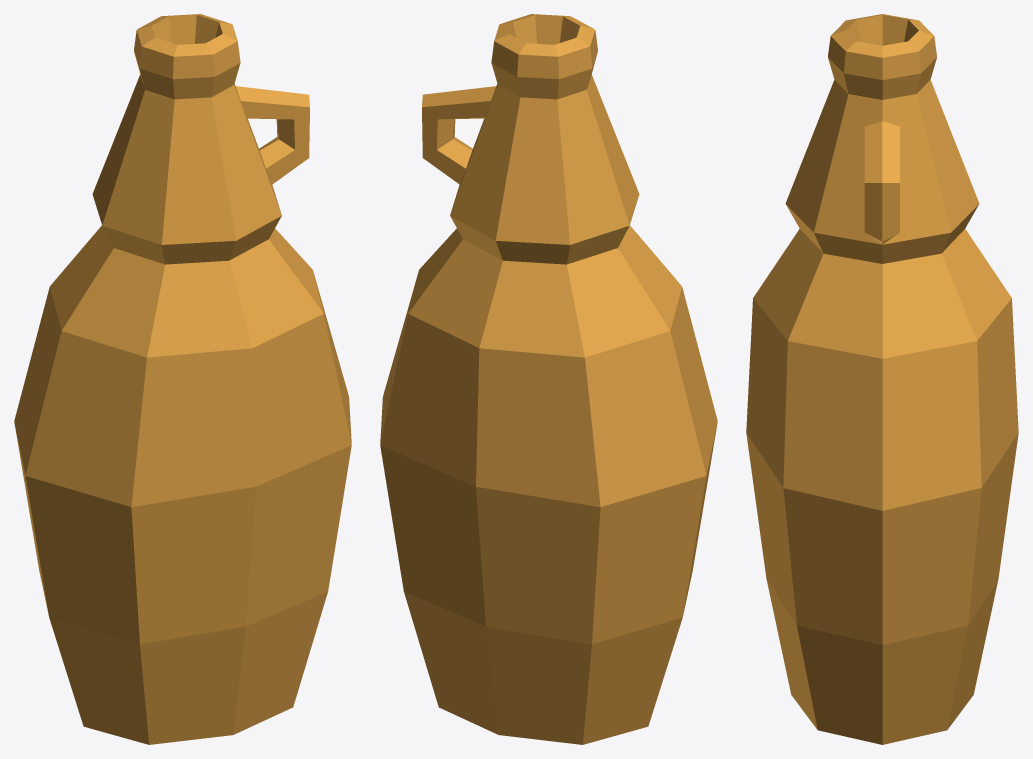
Rendered from jar-syrup-empty.fbx.
The picture shows the model from 3 angles, left to right: view 1: azimuth 30°, elevation 25°; view 2: azimuth 150°, elevation 25°; view 3: azimuth 270°, elevation 25°; orthographic projection.
Parts seen in each view (by area): view 1: jar-syrup-empty; view 2: jar-syrup-empty; view 3: jar-syrup-empty.
Boxes of the visible parts, x1=… form: jar-syrup-empty: x1=14, y1=14, x2=351, y2=744; jar-syrup-empty: x1=380, y1=14, x2=717, y2=744; jar-syrup-empty: x1=746, y1=14, x2=1018, y2=744.
Size of the model in its own units: 0.1062 by 0.2131 by 0.0782.
